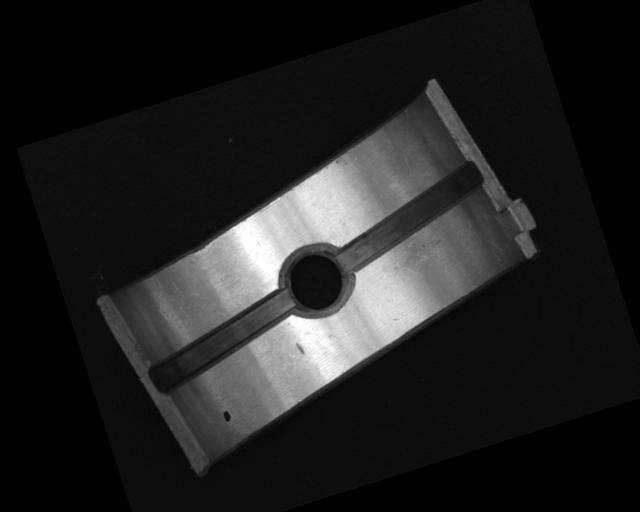blot: (220, 407, 233, 424)
bruise: (294, 341, 305, 357)
gap: (322, 161, 498, 276), (137, 287, 307, 396)
hole: (272, 238, 362, 327)
scratch: (379, 229, 461, 286)
